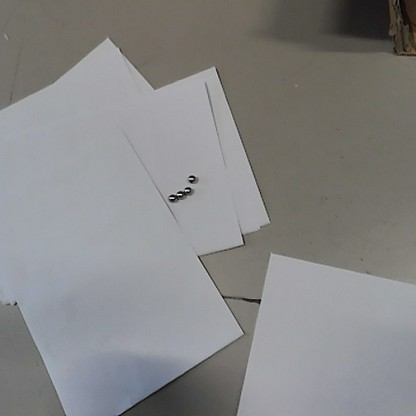ironball: (181, 182, 193, 197), (185, 173, 196, 185), (167, 192, 176, 203), (175, 190, 184, 200)
